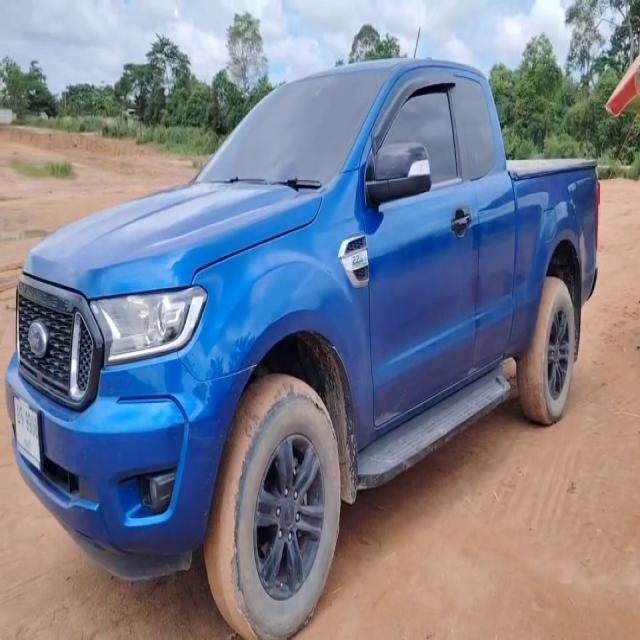Digit: (25, 409, 38, 442)
Licenseplate: (14, 395, 41, 472)
Provincename: (22, 433, 33, 456)
Thaichar: (16, 402, 25, 430)
